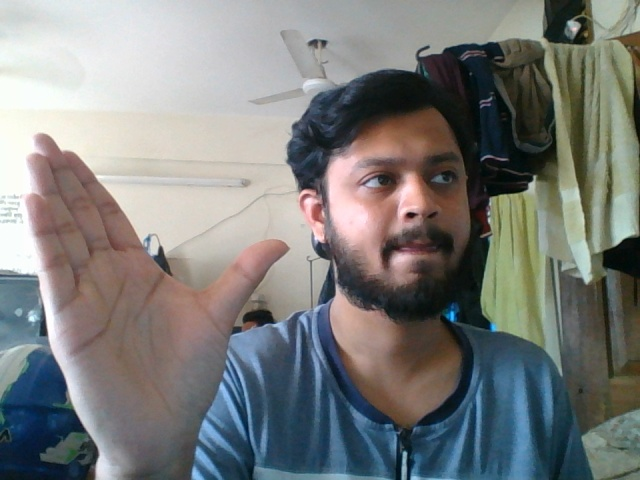a: (13, 122, 301, 480)
